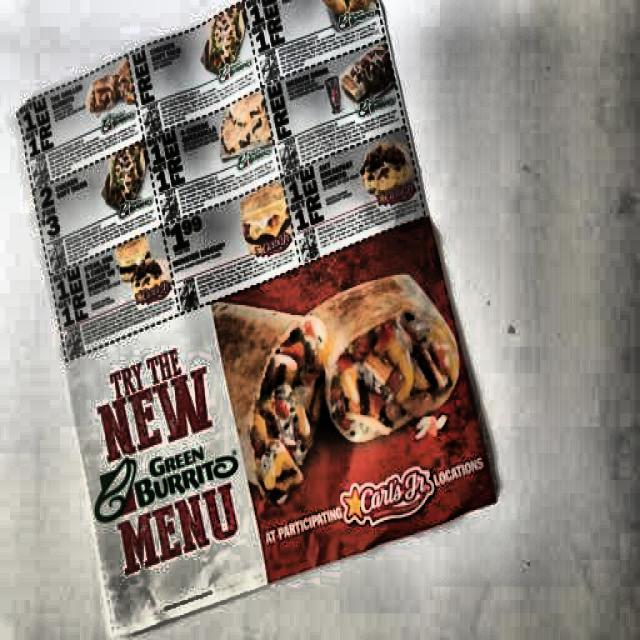paper: (26, 0, 494, 605)
